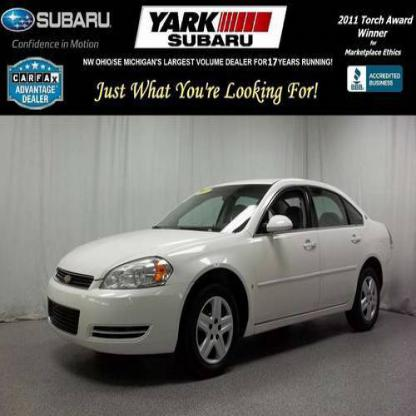Vehicle: (47, 178, 396, 380)
